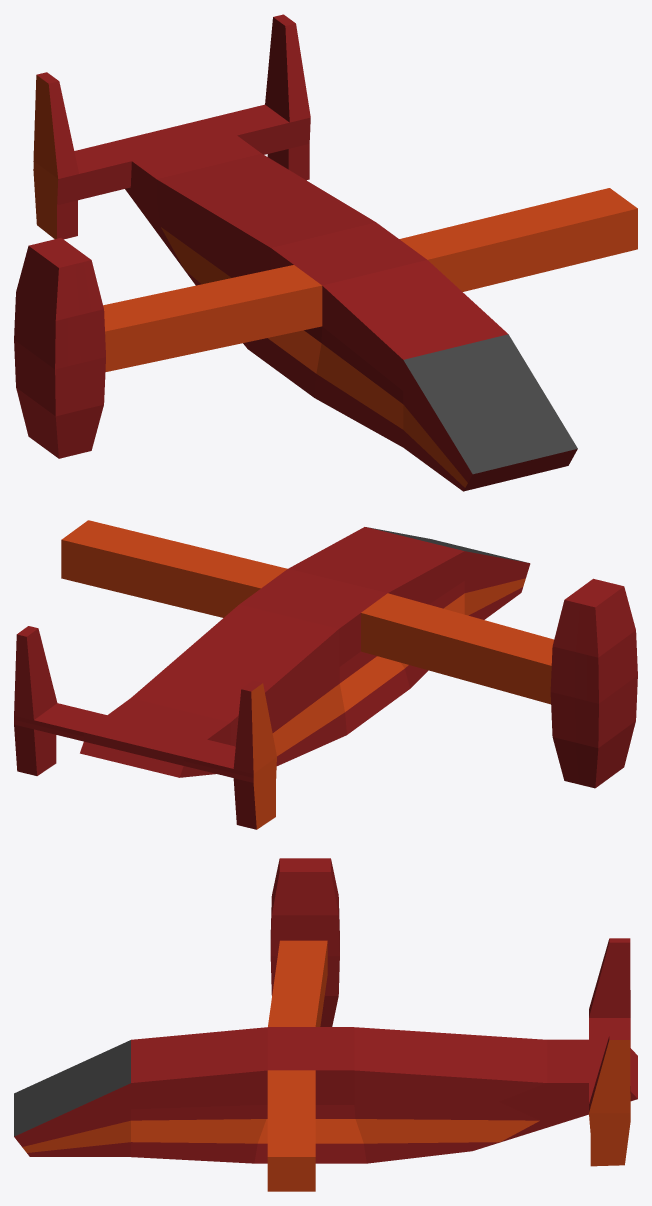
The picture shows the model from 3 angles, top to bottom: view 1: azimuth 30°, elevation 25°; view 2: azimuth 150°, elevation 25°; view 3: azimuth 270°, elevation 25°; orthographic projection. The views are drawn at different scales.
Visible parts, largest first — view 1: plane, thruster; view 2: plane, thruster; view 3: plane, thruster.
Boxes of the visible parts, x1,y1,x2,y2 form: plane: (33,14,637,491); thruster: (14,238,105,458); plane: (14,520,553,829); thruster: (550,578,637,788); plane: (14,938,637,1191); thruster: (270,858,339,1026).
Size of the model in its own units: 1105 by 347 by 1218.
